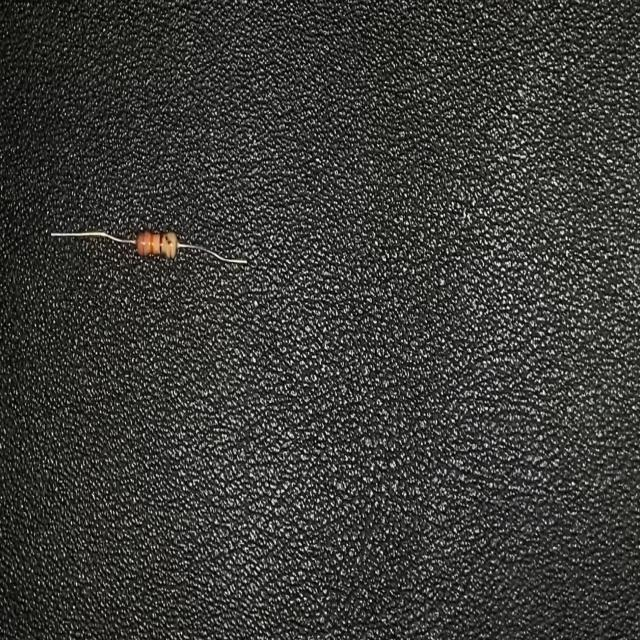burnt: (134, 228, 150, 258)
cracked: (164, 233, 176, 259)
resistor: (52, 226, 250, 276)
